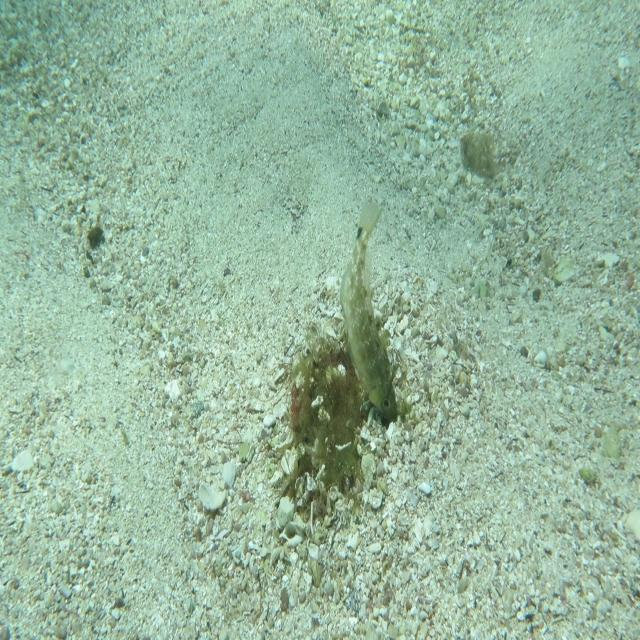NIP_IN: (338, 196, 399, 423)
core_nest: (335, 337, 375, 378)
nest: (272, 284, 408, 516)
vegetation: (458, 120, 498, 186), (85, 221, 108, 248)
